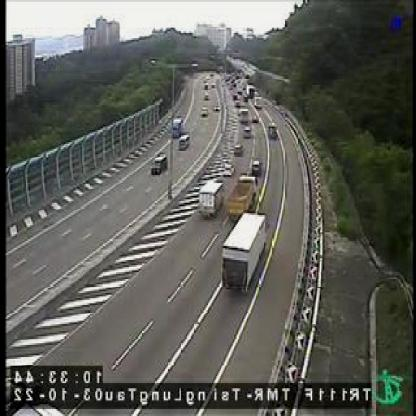Bus: (240, 108, 251, 122)
Car: (150, 152, 167, 174), (178, 133, 190, 151), (253, 160, 264, 175), (232, 142, 245, 154), (271, 120, 278, 138), (200, 106, 210, 114), (252, 113, 260, 123), (246, 125, 252, 137), (213, 104, 221, 109)
Truck: (222, 212, 272, 291), (229, 174, 259, 218), (196, 178, 225, 216), (173, 116, 183, 135)
